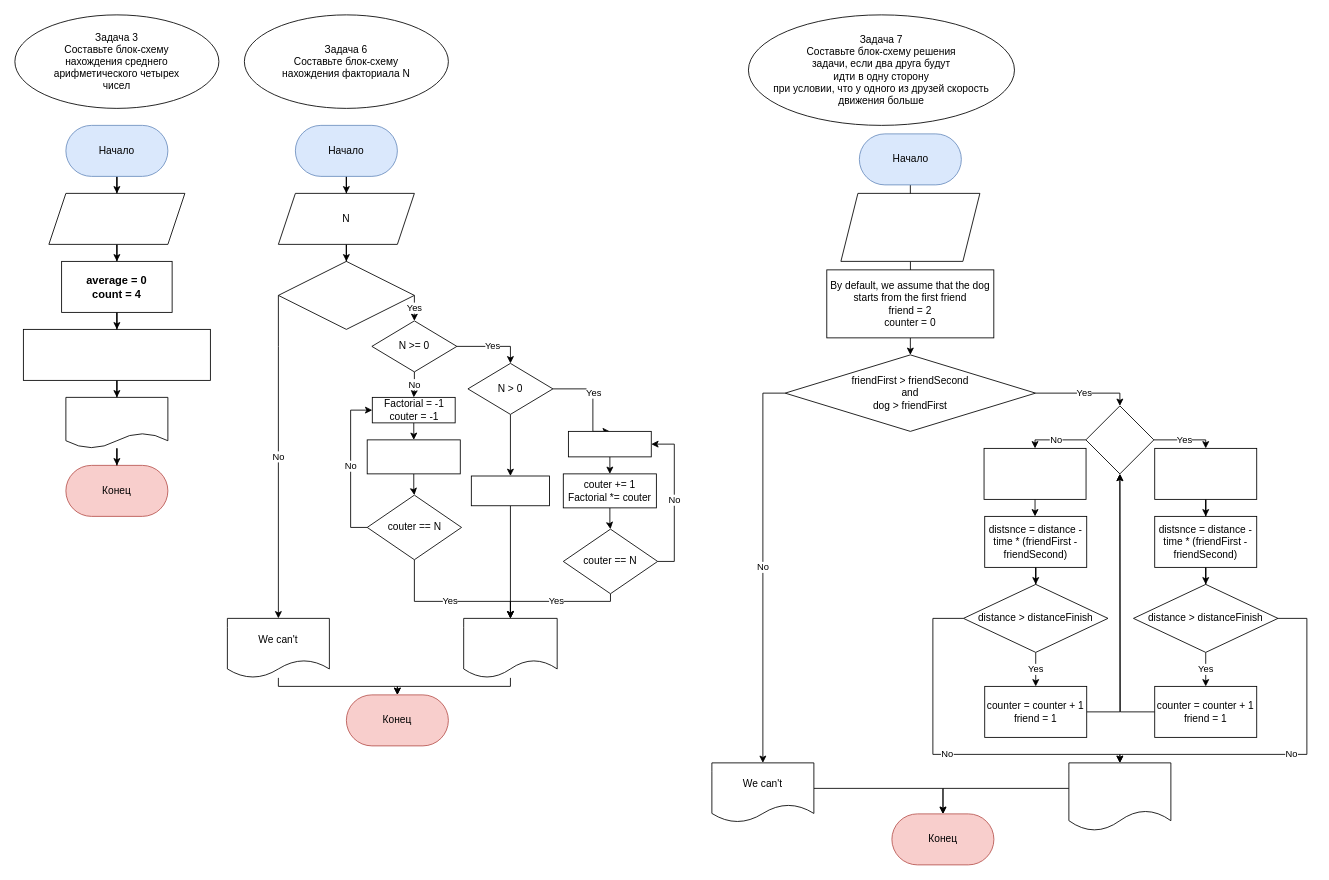
This 1329x880 diagram has some shape labels left out. Here are the shapes that lost their labels. From the top down, the box of each, then its label:
(48, 193, 185, 244): a b с b
(840, 193, 980, 261): friendFirst friendSecond dog distance distanceFinish
(278, 261, 414, 329): integer? N == 0 (mod 1)
(23, 329, 210, 380): average = (a+b+c+d)/ count
(65, 397, 168, 448): average
(1085, 405, 1154, 474): friend == 2
(366, 439, 460, 474): couter -= 1 Factorial *= couter
(568, 431, 651, 457): Factorial = 1 couter = 1
(470, 475, 550, 506): Factorial = 1
(983, 448, 1086, 499): time = distance / (friendFirst + dog)
(1154, 448, 1257, 499): time = distance / (friendSecond - dog)
(463, 618, 557, 678): Factorial
(1068, 762, 1171, 831): counter
